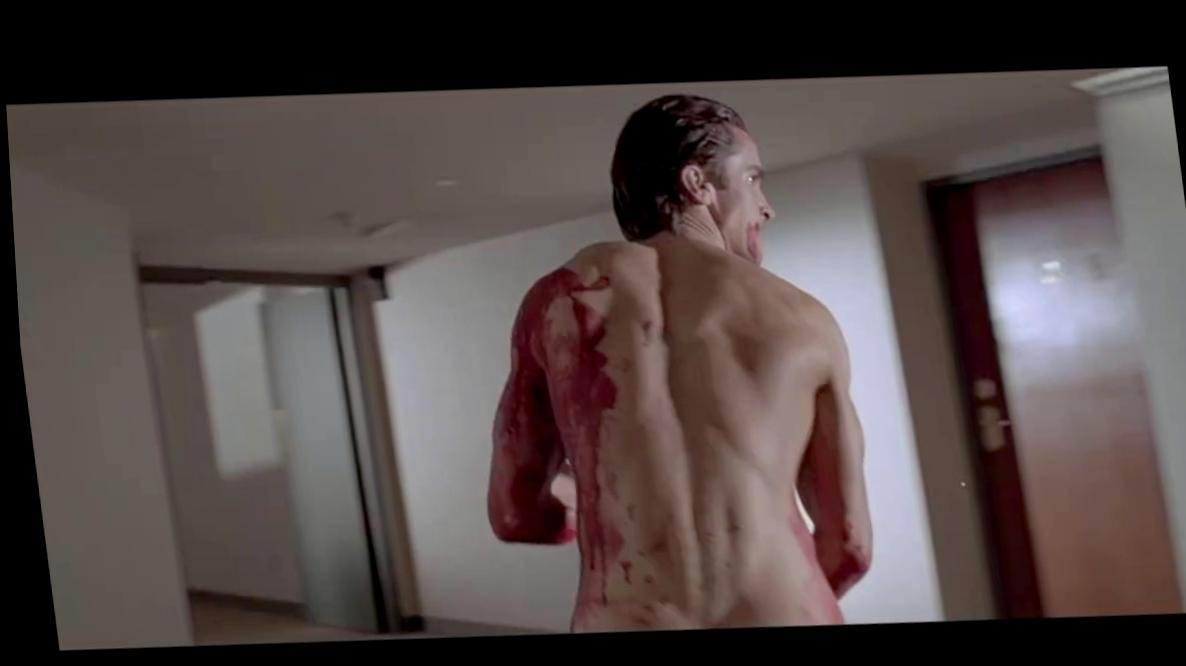Fire: (481, 261, 617, 638), (782, 467, 865, 591)
